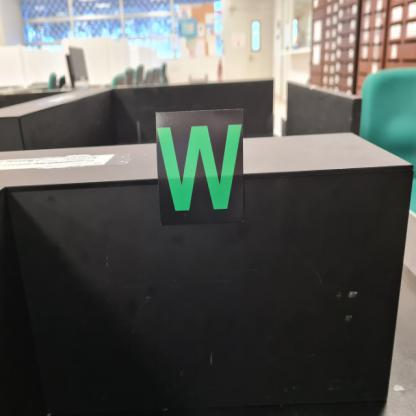w: (155, 109, 247, 227)
